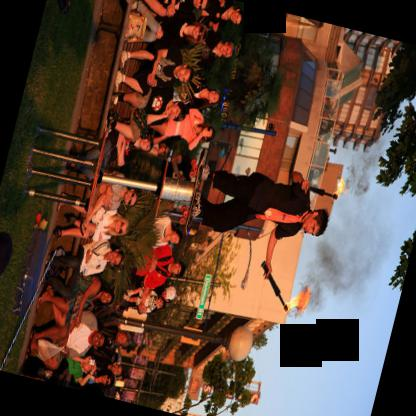backpack: (123, 12, 147, 40)
suitcase: (12, 226, 47, 318)
